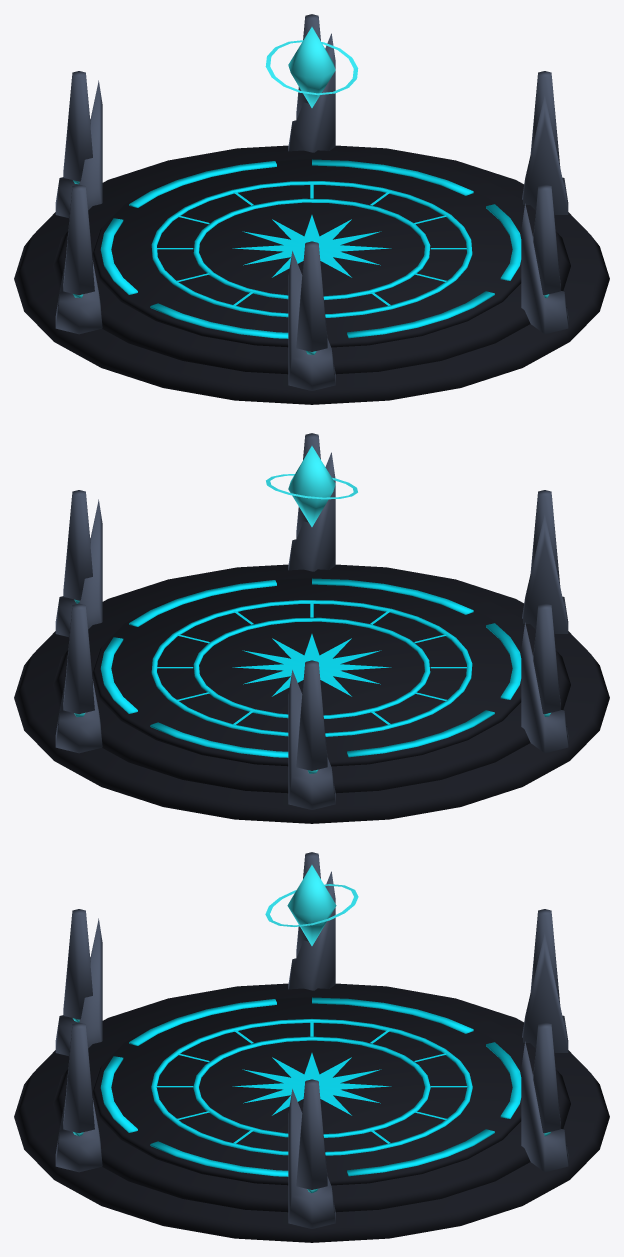
Rendered from Sanctum_Grand_Tier1_Modular.obj.
The picture shows the model from 3 angles, top to bottom: view 1: azimuth 30°, elevation 25°; view 2: azimuth 150°, elevation 25°; view 3: azimuth 270°, elevation 25°; orthographic projection.
Parts seen in each view (by area): view 1: Sanctum_Base_Stone, Sanctum_Perimeter_Monoliths, Sanctum_Rune_Glow, Sanctum_Floating_Nexus; view 2: Sanctum_Base_Stone, Sanctum_Perimeter_Monoliths, Sanctum_Rune_Glow, Sanctum_Floating_Nexus; view 3: Sanctum_Base_Stone, Sanctum_Perimeter_Monoliths, Sanctum_Rune_Glow, Sanctum_Floating_Nexus.
Part boxes in pixels (box(x1,y1,x2,y2)): Sanctum_Base_Stone: box(14, 145, 609, 404); Sanctum_Perimeter_Monoliths: box(55, 14, 568, 390); Sanctum_Rune_Glow: box(100, 159, 521, 338); Sanctum_Floating_Nexus: box(73, 27, 549, 354); Sanctum_Base_Stone: box(14, 564, 609, 823); Sanctum_Perimeter_Monoliths: box(55, 433, 568, 809); Sanctum_Rune_Glow: box(100, 578, 521, 757); Sanctum_Floating_Nexus: box(74, 446, 550, 773); Sanctum_Base_Stone: box(14, 983, 609, 1242); Sanctum_Perimeter_Monoliths: box(55, 852, 568, 1228); Sanctum_Rune_Glow: box(100, 997, 521, 1176); Sanctum_Floating_Nexus: box(72, 865, 550, 1192).
Bounding box in the file's own units: 9.2 × 4.3 × 9.2.
